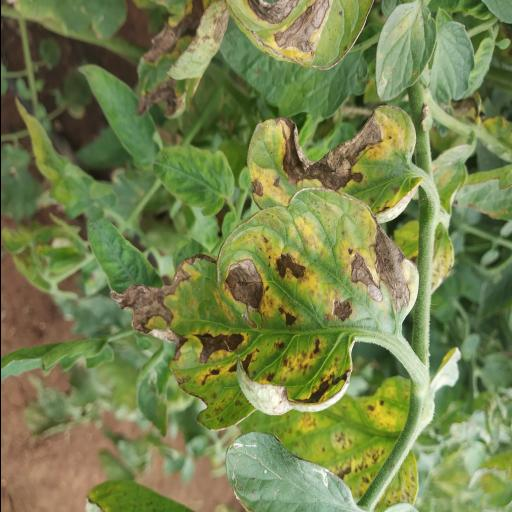disease_tomato: (104, 189, 418, 430), (236, 103, 422, 218)
